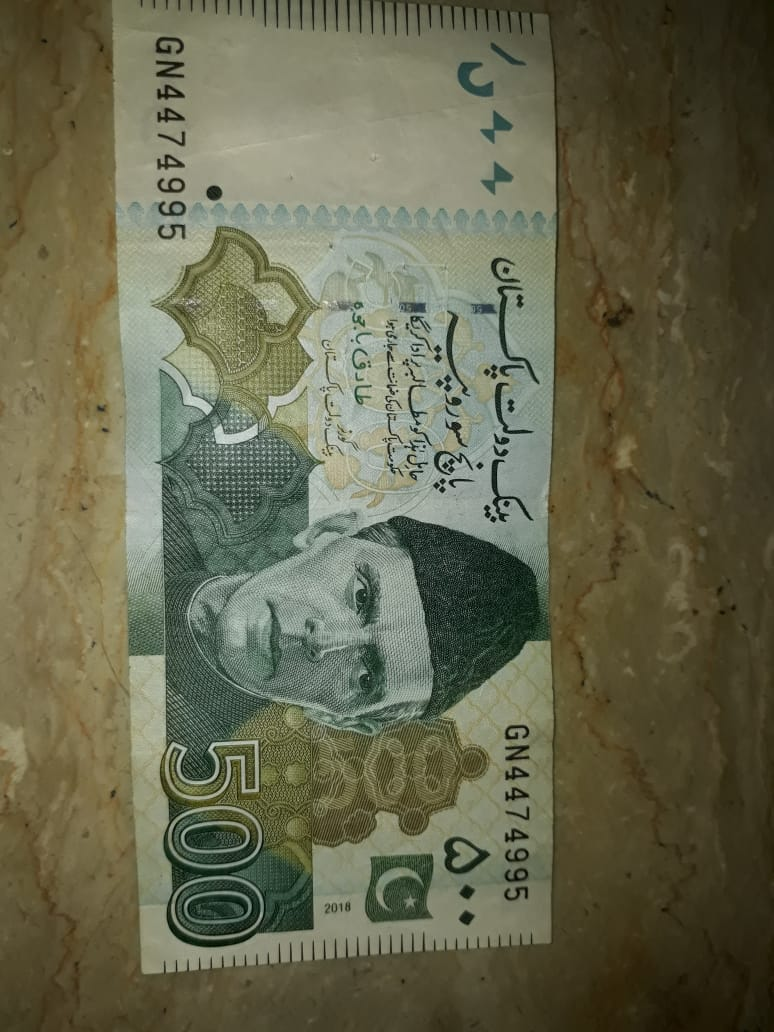500 rupee: (102, 7, 567, 971)
